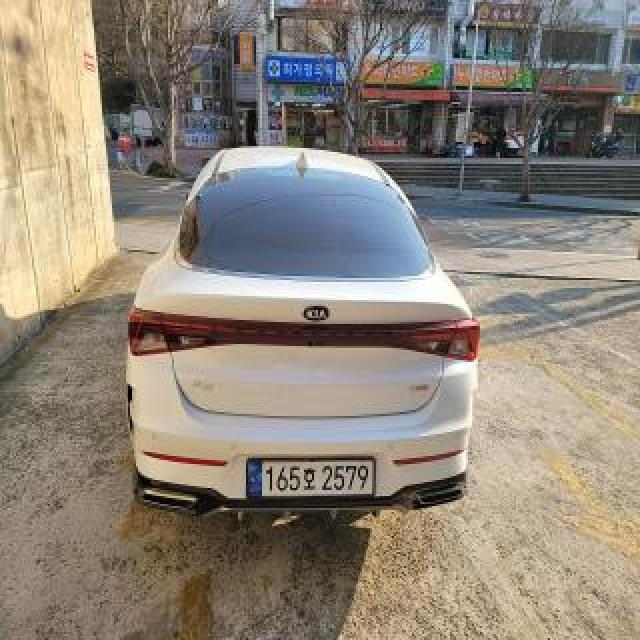car: (123, 141, 490, 544)
illegal_plate: (246, 455, 378, 506)
